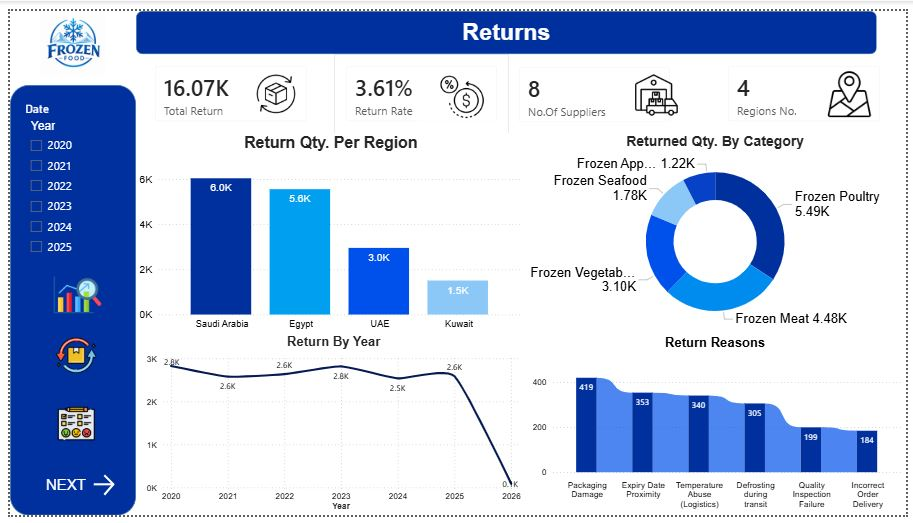

Layout of this report page (visuals, bound fields, positions):
{"tool":"powerbi","page":{"name":"Page 3","canvas":[1280,720],"ordinal":2},"visuals":[{"type":"shape","box":[0,105,180,615],"z":0},{"type":"cardVisual","fields":{"Data":["Table.No.Of Suppliers"]},"box":[710,63.3,250,113.3],"z":1000},{"type":"cardVisual","fields":{"Data":["Dim_Locations.Regions No."]},"box":[1008.3,61.7,251.7,113.3],"z":2000},{"type":"cardVisual","fields":{"Data":["Table.Return Rate"]},"box":[463.3,61.7,250,113.3],"z":3000},{"type":"cardVisual","fields":{"Data":["Table.Total Return"]},"box":[190,61.7,251.7,113.3],"z":4000},{"type":"clusteredColumnChart","title":"Return Qty. Per Region","fields":{"Category":["Dim_Locations.Country"],"Y":["Sum(Fact_Returns.ReturnedQuantity_Tons)"]},"box":[180,175,556.7,288.3],"z":5000},{"type":"lineChart","title":"Return By Year","fields":{"Category":["Fact_Returns.ReturnDate.Variation.Date Hierarchy.Year"],"Y":["Sum(Fact_Returns.ReturnedQuantity_Tons)"]},"box":[190,461.7,545,258.3],"z":6000},{"type":"donutChart","title":"Returned Qty. By Category","fields":{"Category":["Dim_Products.ProductName"],"Y":["Sum(Fact_Returns.ReturnedQuantity_Tons)"]},"box":[735,175,543.3,288.3],"z":7000},{"type":"slicer","title":"Date","fields":{"Values":["Fact_Sales.Date.Variation.Date Hierarchy.Year"]},"box":[15,128.3,150,243.3],"z":8000},{"type":"actionButton","box":[5,656.7,168.3,40],"z":9000},{"type":"shape","box":[180,0,1058.3,61.7],"z":10000},{"type":"image","box":[51.7,371.7,90,68.3],"z":11000},{"type":"image","box":[46.7,463.3,95,58.3],"z":12000},{"type":"image","box":[46.7,563.3,95,53.3],"z":13000},{"type":"ribbonChart","title":"Return Reasons","fields":{"Category":["Fact_Returns.ReturnReason"],"Y":["CountNonNull(Fact_Returns.ReturnID)"]},"box":[735,463,543,257],"z":14000},{"type":"image","box":[340,88.3,80,60],"z":15000},{"type":"image","box":[583.3,88.3,126.7,68.3],"z":16000},{"type":"image","box":[870,88.3,106.7,63.3],"z":17000},{"type":"image","box":[1158.3,81.7,80,75],"z":18000},{"type":"image","box":[0,0,180,91.7],"z":19000}]}

Visuals, with their boxes in screenshot pixels (x1, y1, x2, y2), scaled from the page's 1280x720 canvas onto the 913x523 screenshot:
shape: (0, 76, 128, 522)
cardVisual - Table.No.Of Suppliers: (506, 46, 685, 128)
cardVisual - Dim_Locations.Regions No.: (719, 45, 899, 127)
cardVisual - Table.Return Rate: (330, 45, 509, 127)
cardVisual - Table.Total Return: (136, 45, 315, 127)
"Return Qty. Per Region" clusteredColumnChart: (128, 127, 525, 337)
"Return By Year" lineChart: (136, 335, 524, 522)
"Returned Qty. By Category" donutChart: (524, 127, 912, 337)
"Date" slicer: (11, 93, 118, 270)
actionButton: (4, 477, 124, 506)
shape: (128, 0, 883, 45)
image: (37, 270, 101, 320)
image: (33, 337, 101, 379)
image: (33, 409, 101, 448)
"Return Reasons" ribbonChart: (524, 336, 912, 522)
image: (243, 64, 300, 108)
image: (416, 64, 506, 114)
image: (621, 64, 697, 110)
image: (826, 59, 883, 114)
image: (0, 0, 128, 67)
